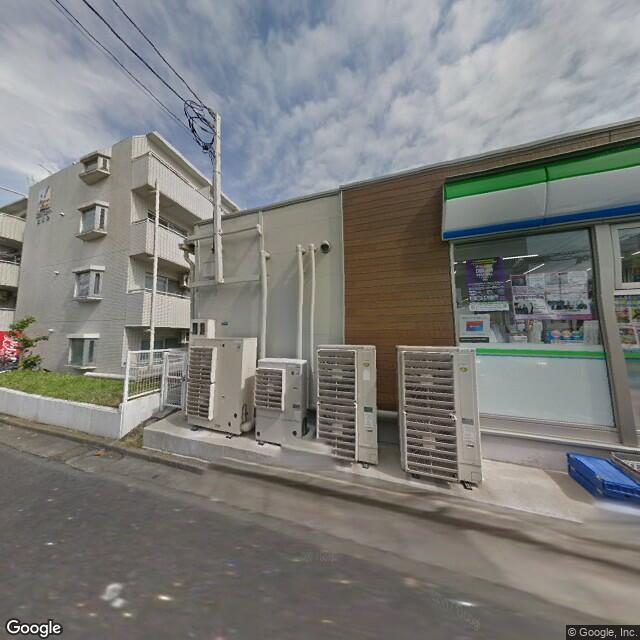family_mart: (440, 141, 640, 244)
